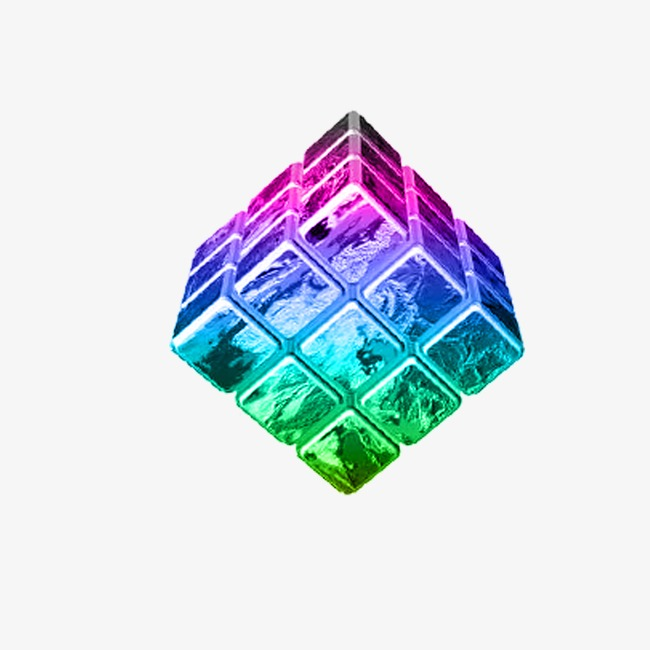cube: (147, 90, 550, 527)
